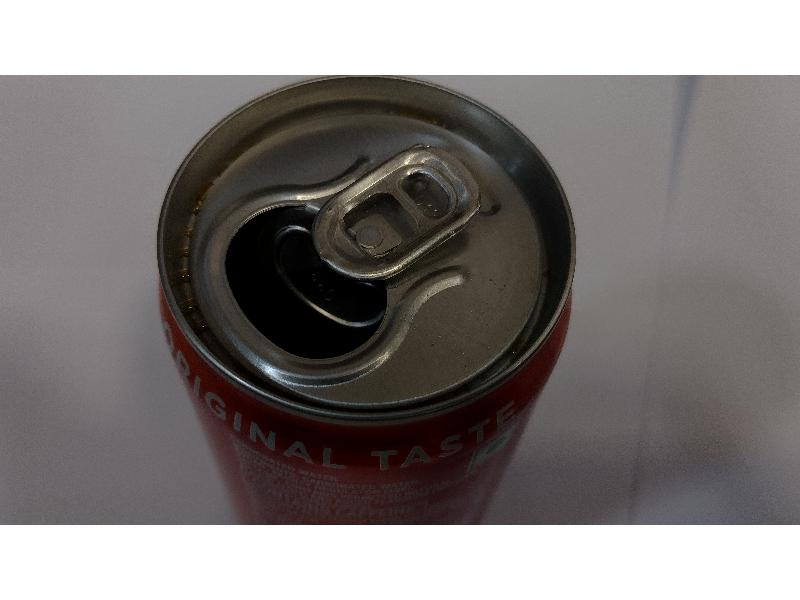can: (152, 78, 578, 521)
